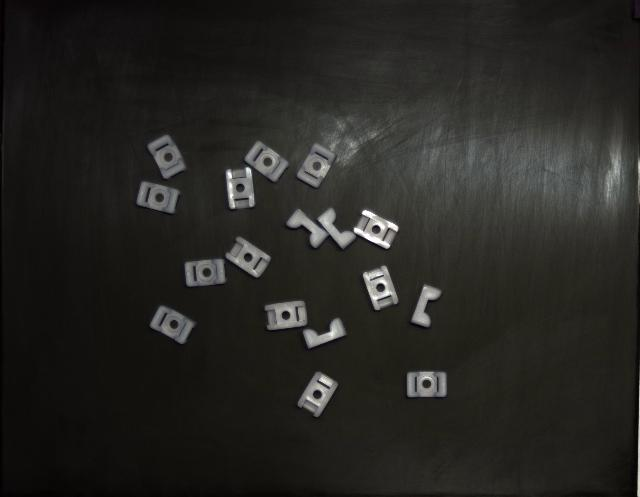first_side: (245, 141, 289, 182), (148, 135, 188, 180), (150, 306, 196, 345), (296, 144, 336, 188), (136, 181, 181, 214), (185, 259, 226, 288), (406, 371, 448, 399)
second_side: (226, 238, 271, 279), (298, 372, 338, 418), (354, 210, 399, 249), (362, 266, 399, 311), (265, 301, 308, 331), (226, 168, 255, 210)
third_side: (286, 210, 329, 249), (318, 209, 356, 250), (302, 319, 346, 349), (411, 285, 441, 328)
